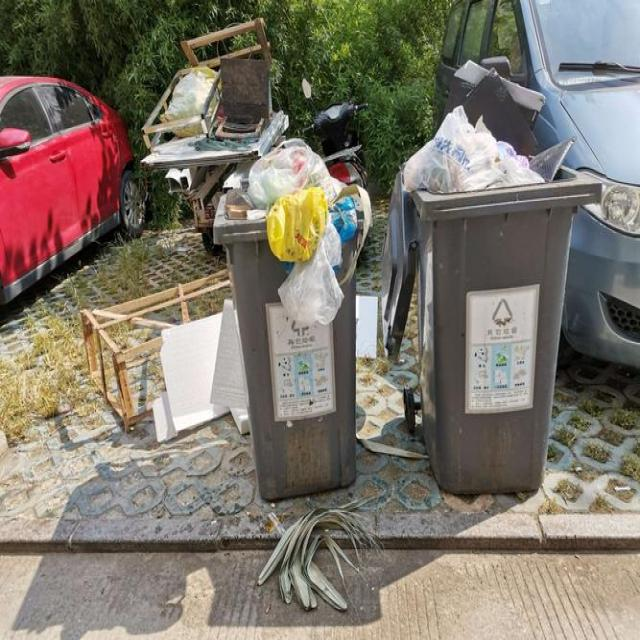garbage: (78, 265, 246, 443), (256, 496, 380, 610)
overflow: (385, 59, 598, 490), (211, 134, 370, 496)
